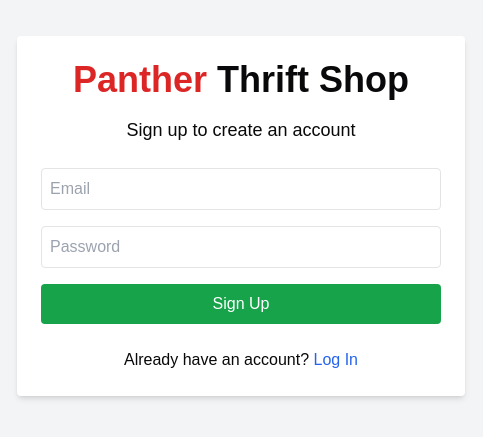
Test case: SignUp Component › handles successful sign-up with Firestore
The image size is (483, 437).
Type "test@hanover.edu" into the field with placeholder "Email".
click(241, 189); type("test@hanover.edu")  # box [41,168,441,210]
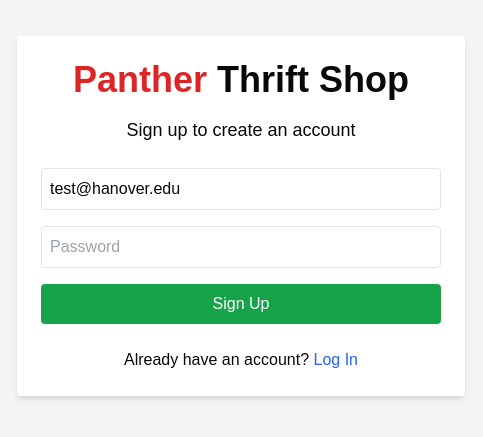
Type "password123" into the password field with placeholder "Password".
click(241, 247); type("password123")  # box [41,226,441,268]
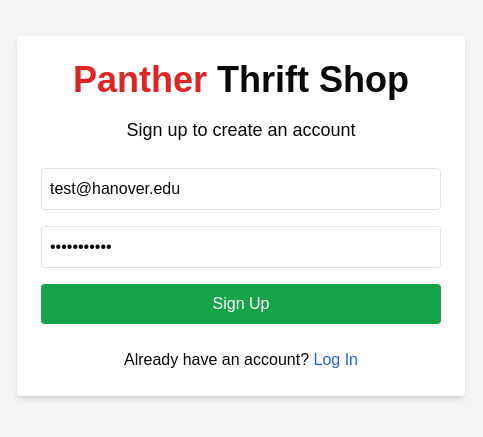
Click the button "Sign Up".
click(241, 304)  # box [41,284,441,324]
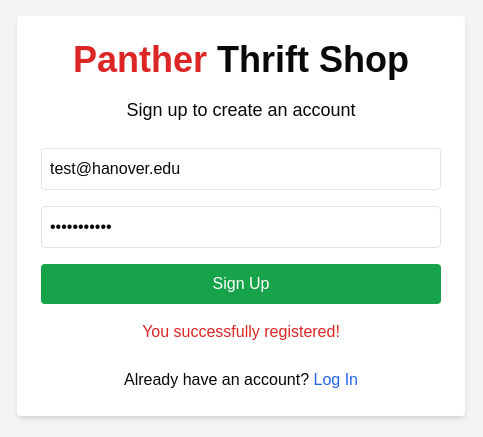
Expected: the text "You successfully registered!" is shown, [142,323,340,340]
